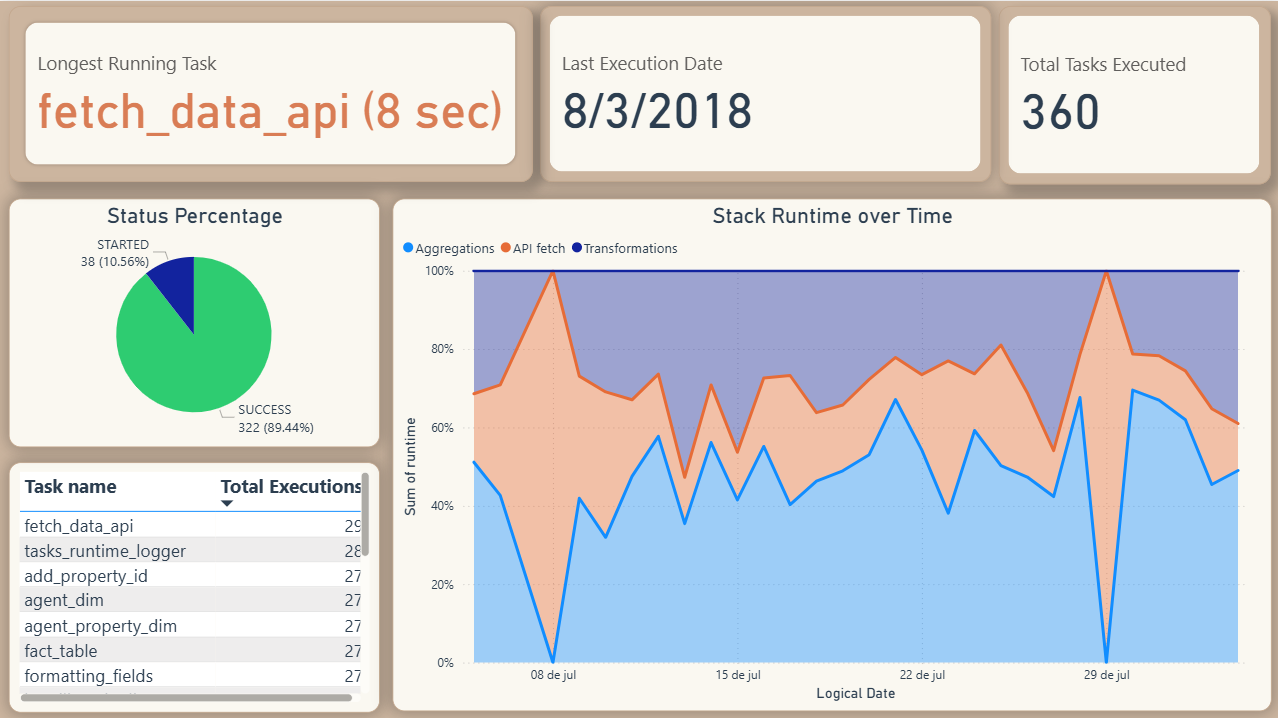

Layout of this report page (visuals, bound fields, positions):
{"tool":"powerbi","page":{"name":"Página 1","canvas":[1280,720],"ordinal":0},"visuals":[{"type":"cardVisual","fields":{"Data":["de_log tasks_logger.Number of task executed"]},"box":[998.3,5,271.7,178.3],"z":0},{"type":"tableEx","fields":{"Values":["de_log tasks_logger.task_id","de_log tasks_logger.Number of tasks executed"]},"box":[9,461,371,250],"z":1000},{"type":"pieChart","title":"Status Percentage","fields":{"Y":["de_log tasks_logger.Count of states"],"Category":["de_log tasks_logger.state"],"Series":["de_log tasks_logger.state"]},"box":[9,198,371,249],"z":2000},{"type":"cardVisual","fields":{"Data":["de_log tasks_logger.Last Runned Date"]},"box":[540,5,451,176],"z":3000},{"type":"hundredPercentStackedAreaChart","title":"Stack Runtime over Time","fields":{"Category":["de_log tasks_logger.logical_date"],"Y":["Sum(de_log tasks_logger.runtime)"],"Series":["de_log tasks_logger.task_id (groups)"]},"box":[392,198,879,513],"z":4000},{"type":"cardVisual","fields":{"Data":["de_log tasks_logger.Top Product and Sales"]},"box":[9,5,524,176],"z":5000}]}

Visuals, with their boxes in screenshot pixels (x1, y1, x2, y2), scaled from the page's 1280x720 canvas onto the 1278x718 screenshot:
cardVisual - de_log tasks_logger.Number of task executed: left=997, top=5, right=1268, bottom=183
tableEx - de_log tasks_logger.task_id x de_log tasks_logger.Number of tasks executed: left=9, top=460, right=379, bottom=709
"Status Percentage" pieChart: left=9, top=197, right=379, bottom=446
cardVisual - de_log tasks_logger.Last Runned Date: left=539, top=5, right=989, bottom=180
"Stack Runtime over Time" hundredPercentStackedAreaChart: left=391, top=197, right=1269, bottom=709
cardVisual - de_log tasks_logger.Top Product and Sales: left=9, top=5, right=532, bottom=180
